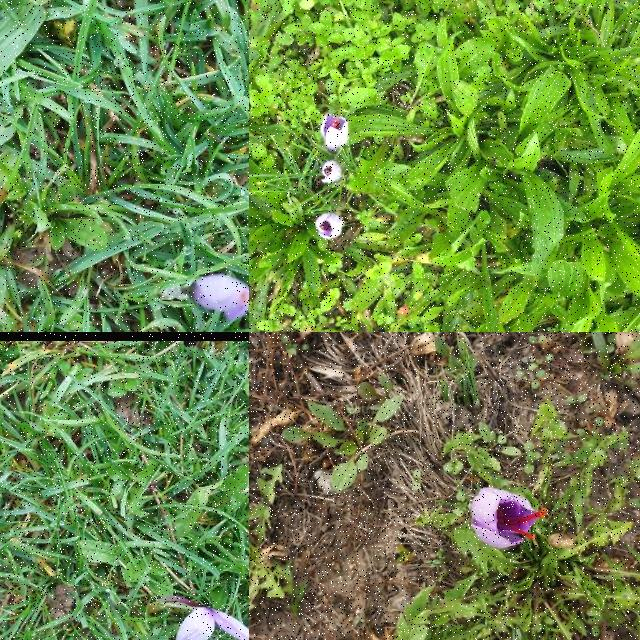flower: (470, 488, 548, 548), (189, 274, 249, 322), (176, 608, 249, 640), (321, 114, 349, 152), (316, 213, 342, 239), (322, 160, 341, 184)
